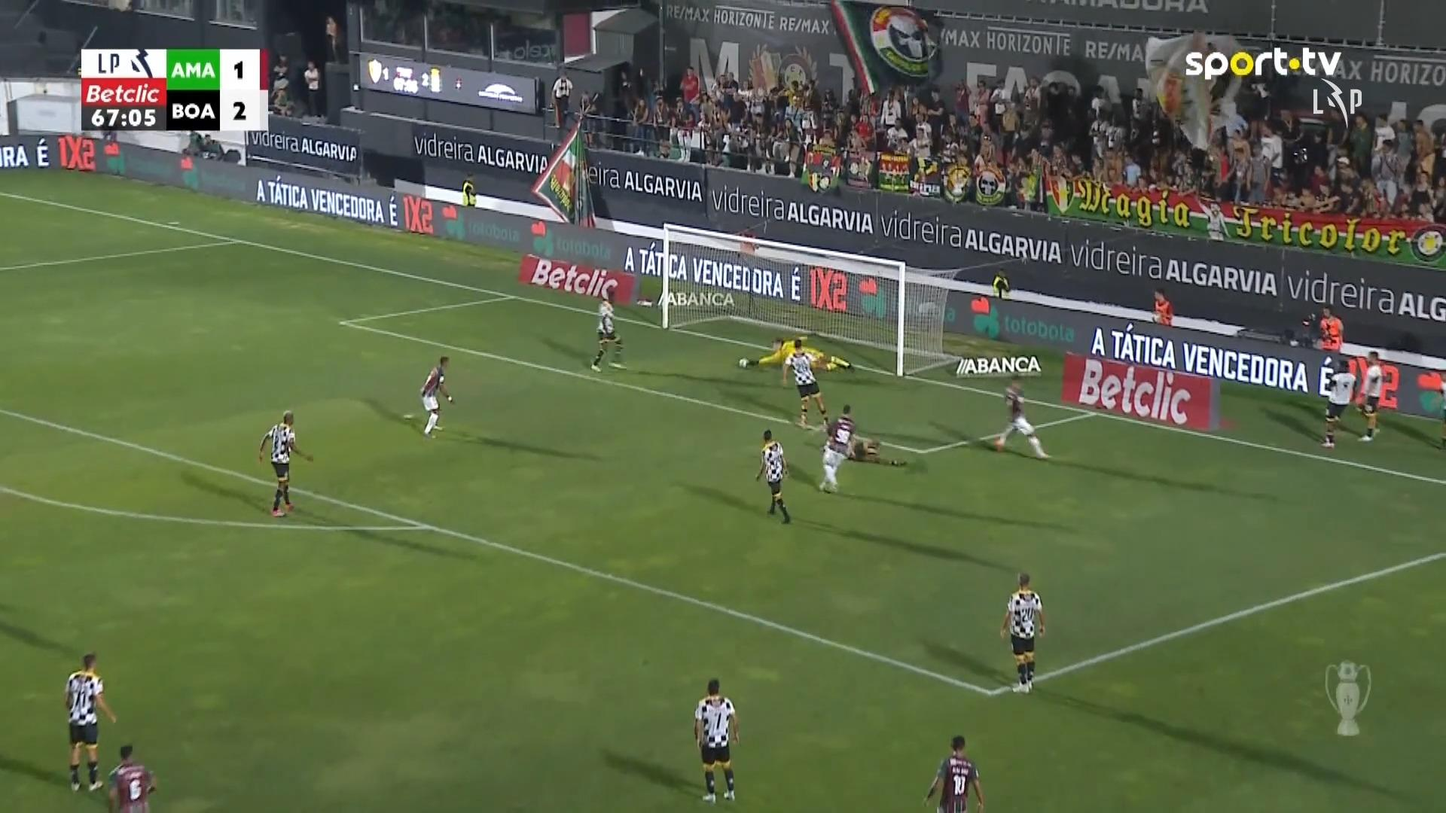ball: (737, 357, 749, 368)
goalkeeper: (737, 335, 853, 373)
player: (816, 403, 908, 493), (63, 652, 117, 791), (257, 410, 313, 517), (693, 677, 740, 803), (999, 571, 1045, 693), (993, 374, 1051, 459), (923, 734, 984, 811), (782, 343, 829, 430), (817, 403, 856, 493), (755, 428, 791, 524), (107, 743, 157, 811), (419, 355, 454, 437), (590, 295, 625, 371), (847, 434, 908, 466)
